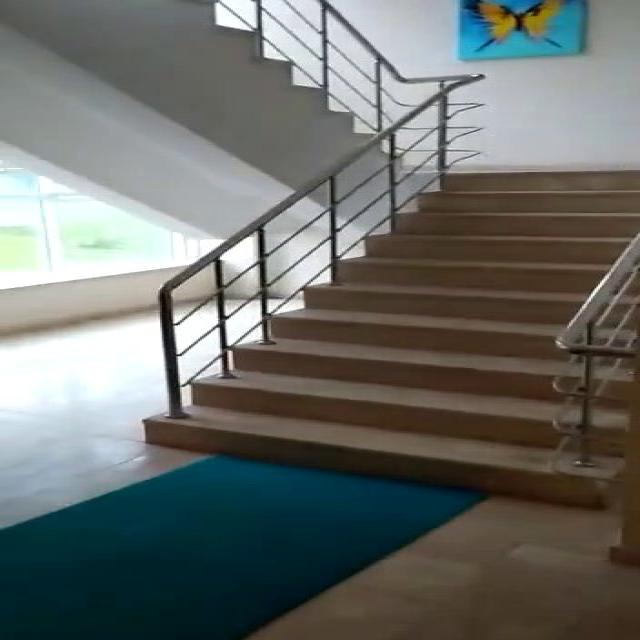upstair: (312, 83, 590, 475)
